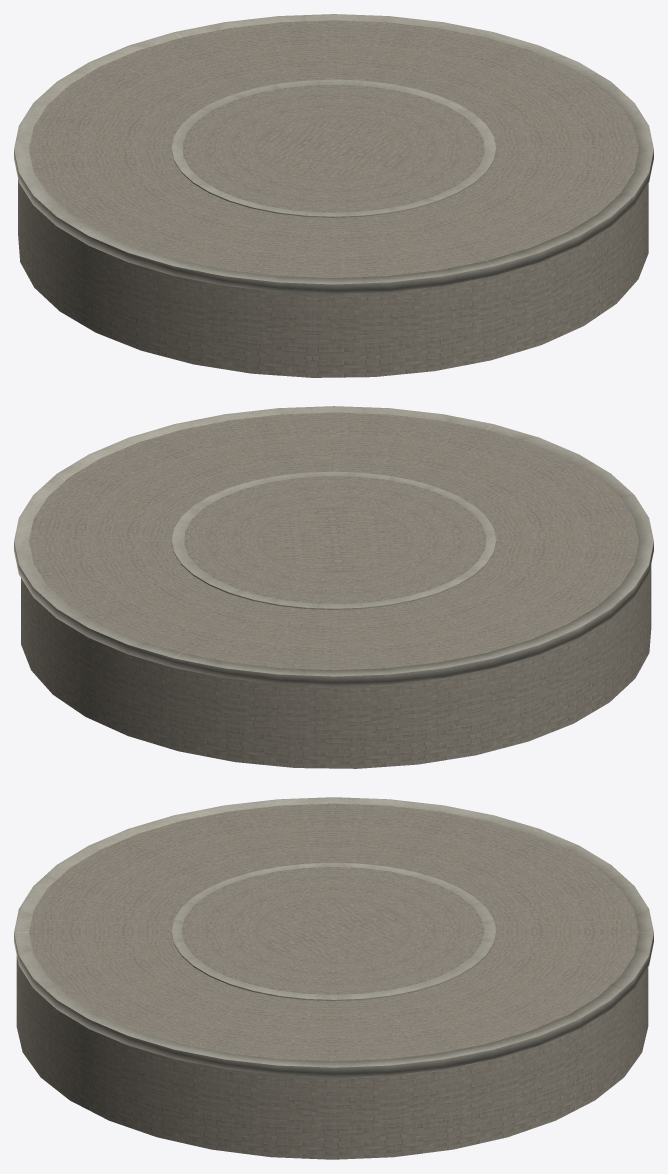
File: mod_zlc_jianzhu089_xy.FBX
3 views of the same model, one above another, from view 1: azimuth 30°, elevation 25°; view 2: azimuth 150°, elevation 25°; view 3: azimuth 270°, elevation 25° (orthographic).
Visible parts, largest first — view 1: mod_zlc_jianzhu065_xy; view 2: mod_zlc_jianzhu065_xy; view 3: mod_zlc_jianzhu065_xy.
Part boxes in pixels (x1,y1,x2,y2): mod_zlc_jianzhu065_xy: (14,14,653,377); mod_zlc_jianzhu065_xy: (14,406,653,768); mod_zlc_jianzhu065_xy: (14,797,653,1159).
Bounding box in the file's own units: 54.81 × 9.04 × 54.81.
2 materials, 2 textured.
